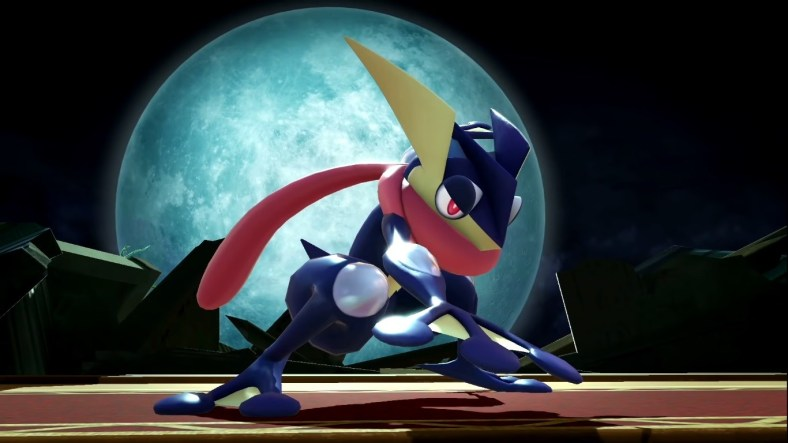greninja: (167, 55, 582, 416)
